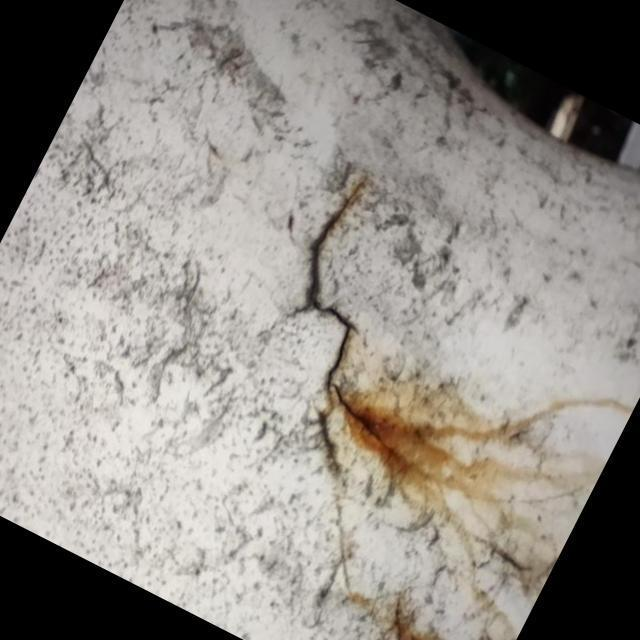defect: (281, 176, 395, 460)
